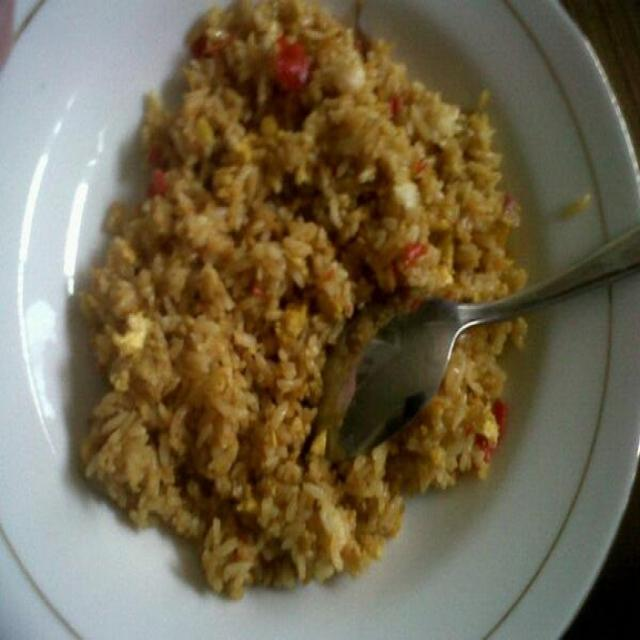米饭主食: (63, 47, 526, 584)
